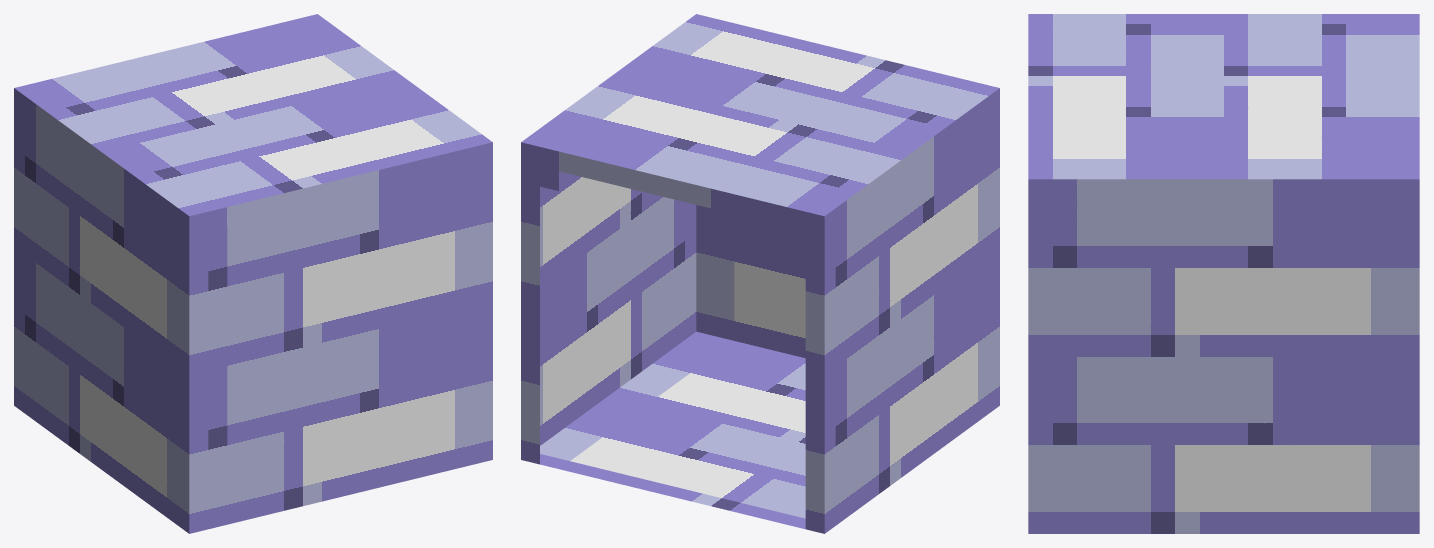
Rendered from DoorNotchPurple.gltf.
3 renders of one model, left to right at view 1: azimuth 30°, elevation 25°; view 2: azimuth 150°, elevation 25°; view 3: azimuth 270°, elevation 25°, orthographic. The views are drawn at different scales.
Parts seen in each view (by area): view 1: DoorNotchPurple; view 2: DoorNotchPurple; view 3: DoorNotchPurple.
Boxes of the visible parts, x1=… form: DoorNotchPurple: x1=14, y1=14, x2=492, y2=533; DoorNotchPurple: x1=521, y1=14, x2=999, y2=533; DoorNotchPurple: x1=1028, y1=14, x2=1419, y2=533.
Size of the model in its own units: 1 by 1 by 1.
Materials: 1 (1 with a texture image).
